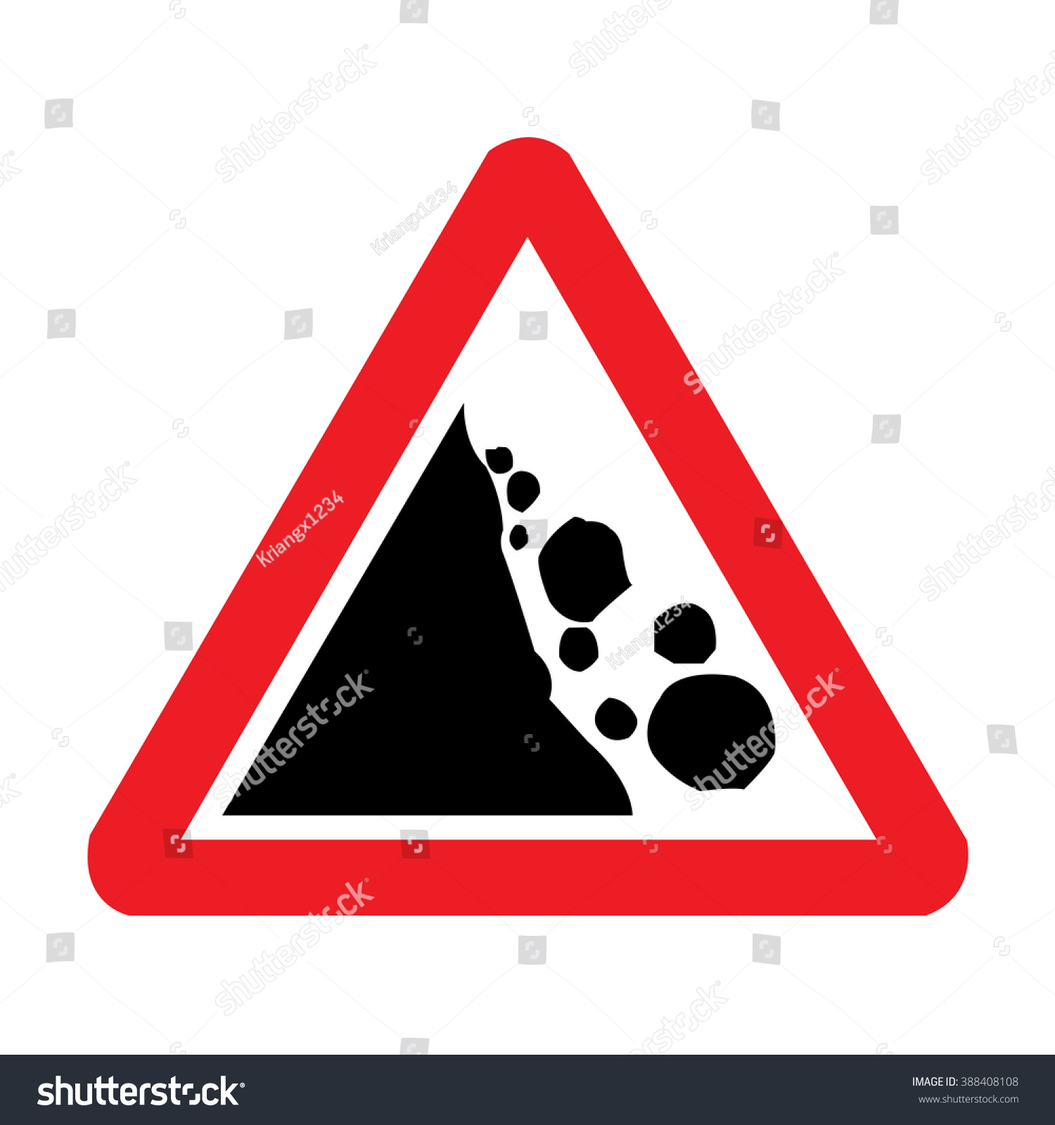FallenSign: (80, 130, 981, 919)
